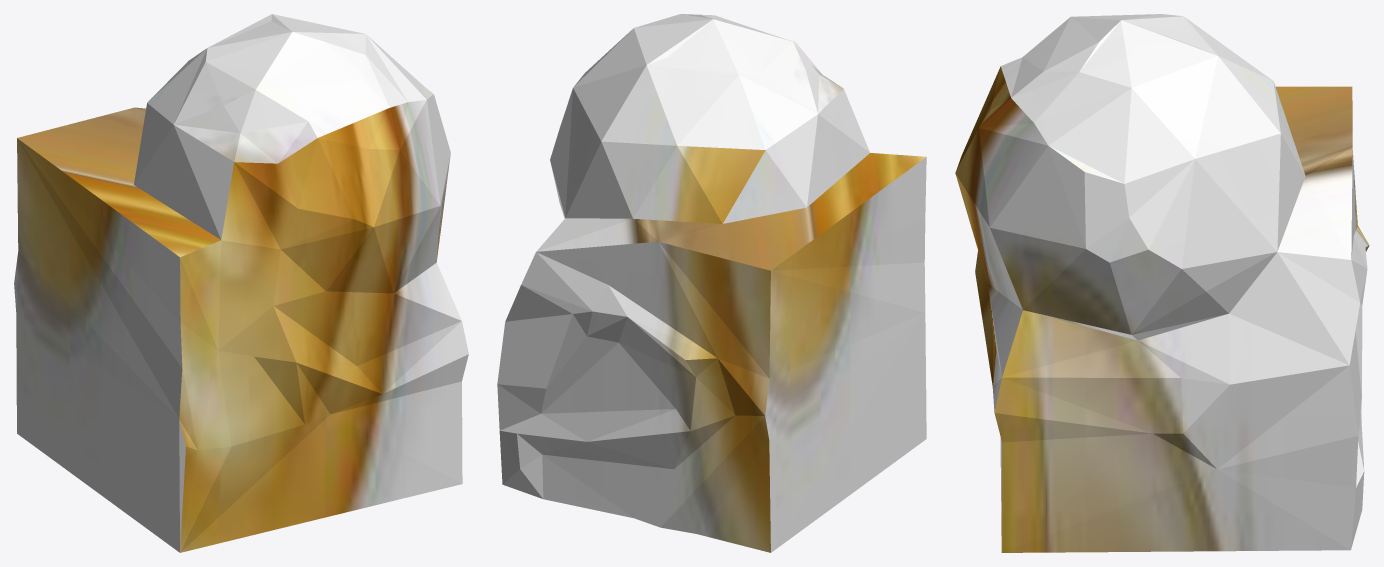
3 views of the same model, side by side, from view 1: azimuth 30°, elevation 25°; view 2: azimuth 150°, elevation 25°; view 3: azimuth 270°, elevation 25° (orthographic). The views are drawn at different scales.
Parts seen in each view (by area): view 1: Cube; view 2: Cube; view 3: Cube.
Part boxes in pixels (box(x1,y1,x2,y2)): Cube: box(14, 14, 468, 552); Cube: box(497, 14, 926, 552); Cube: box(955, 14, 1369, 552).
Size of the model in its own units: 2.24 by 2.97 by 2.36.
1 material, 1 textured.
